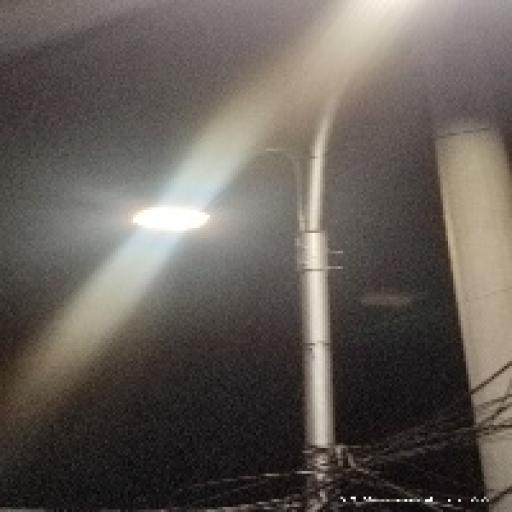Working: (126, 195, 223, 250)
